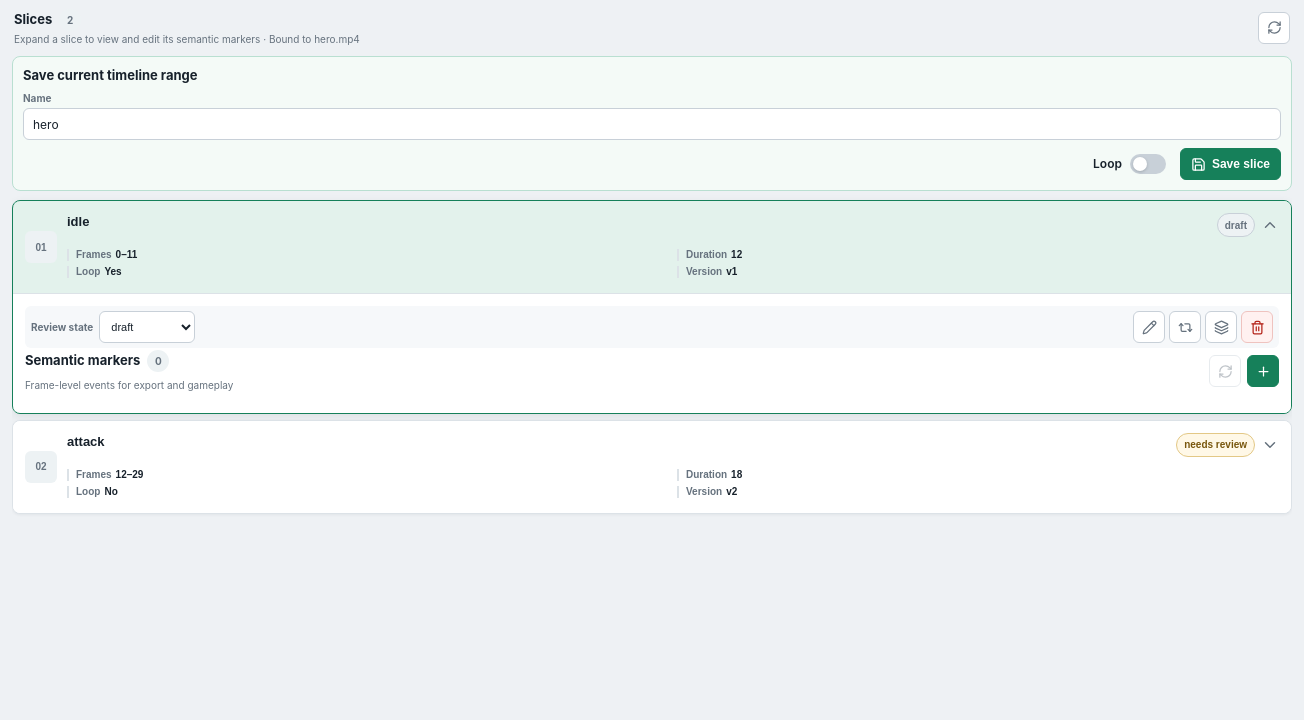
Test: ActionClipReviewPanel › moves through review states and locks approved clip content
Expected: the text "idle" is shown, top-left (67, 214), bottom-right (89, 229)
Select "needs review" in the dropdown labelled "Review state" at (147, 327), box top-left (99, 311), bottom-right (195, 343)
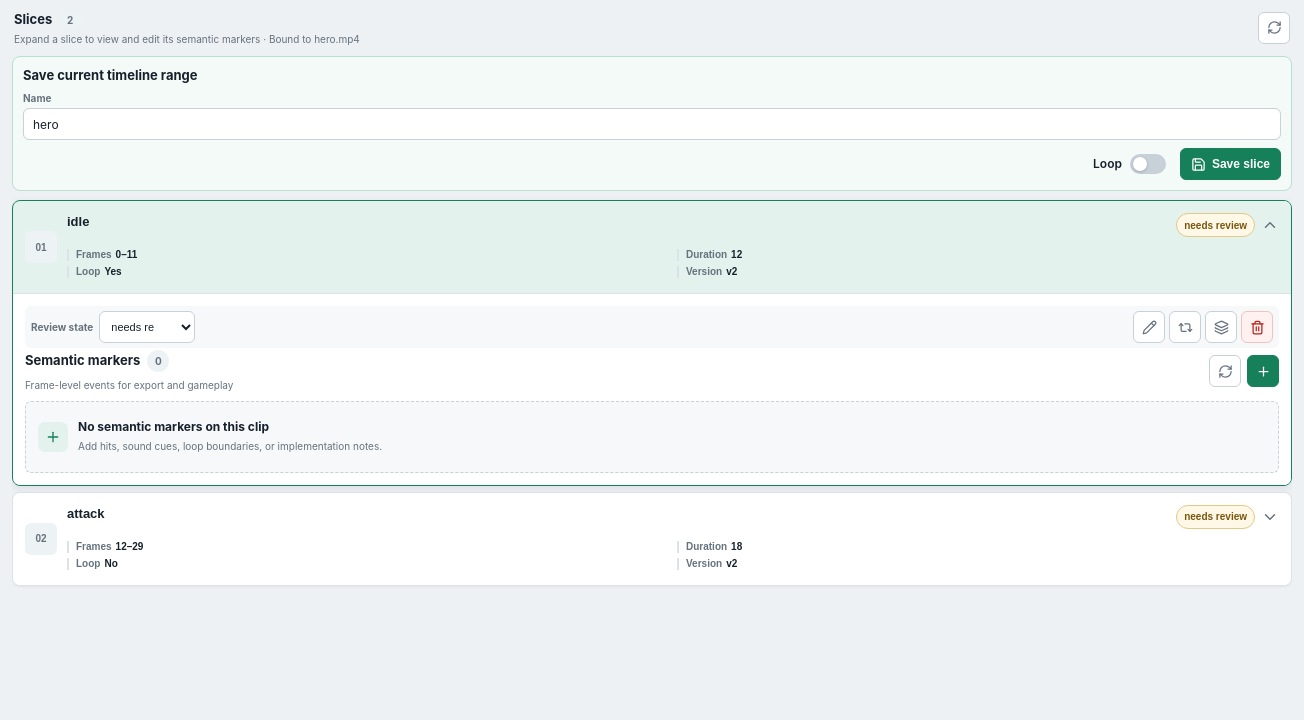
Select "approved" in the dropdown labelled "Review state" at (147, 327), box top-left (99, 311), bottom-right (195, 343)
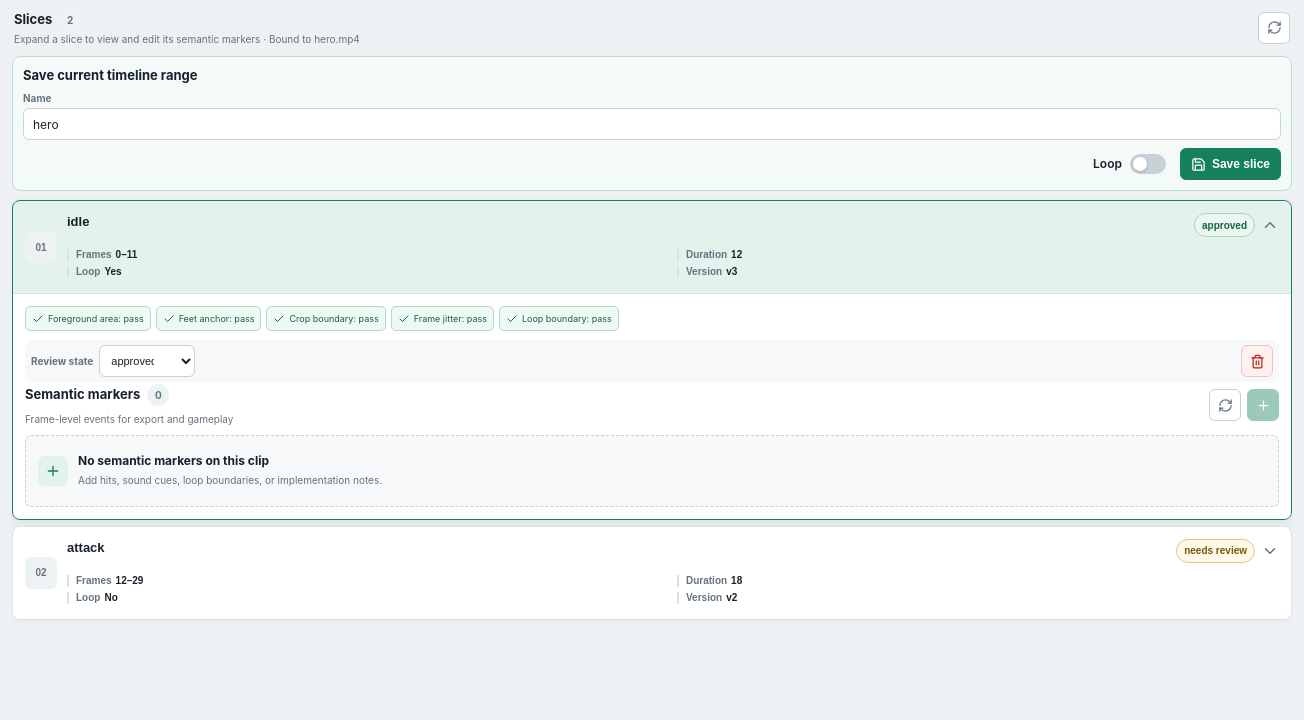
Expected: the button "Rename" is gone
Expected: the button "Unloop" is gone
Expected: the button named "New marker" is disabled, top-left (1247, 389), bottom-right (1279, 421)
